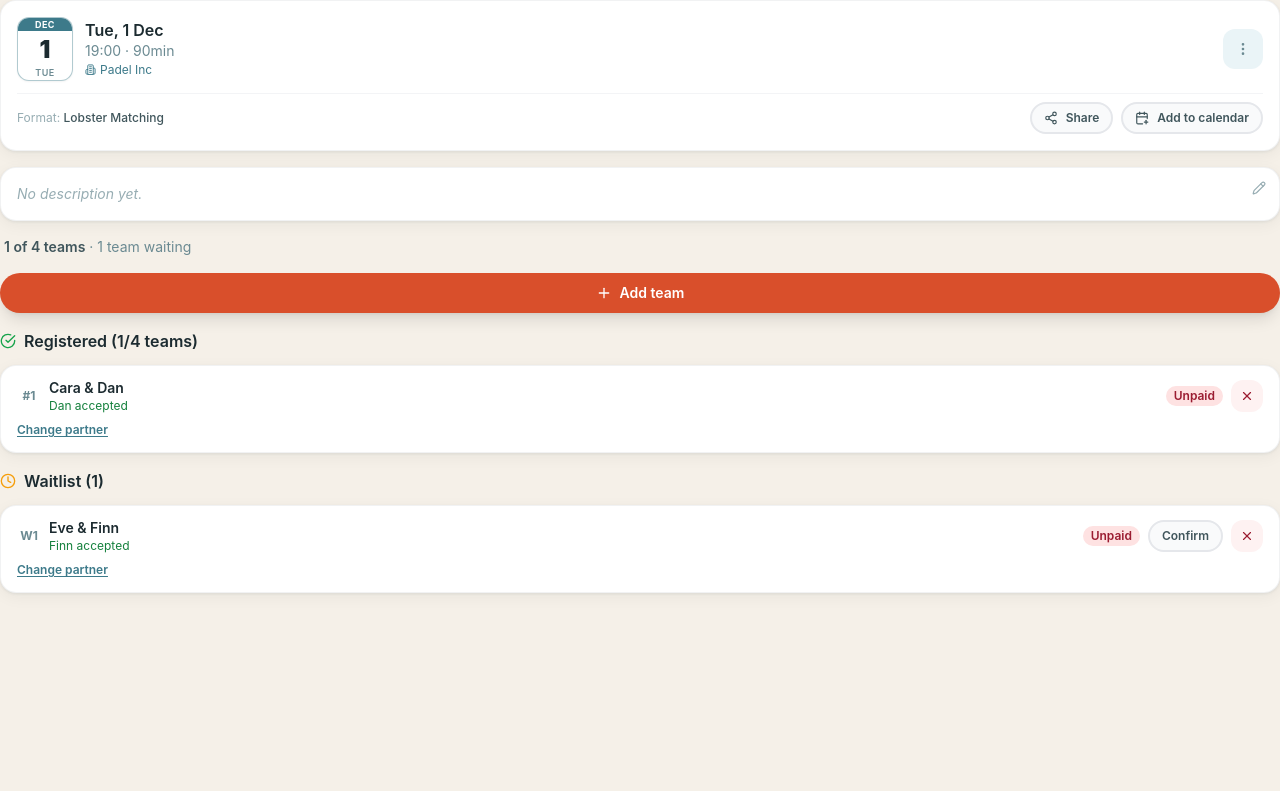
Test case: admin team actions › labels the new-partner link from the admin point of view
Click the button "Add team": (640, 293) [0,273,1279,313]
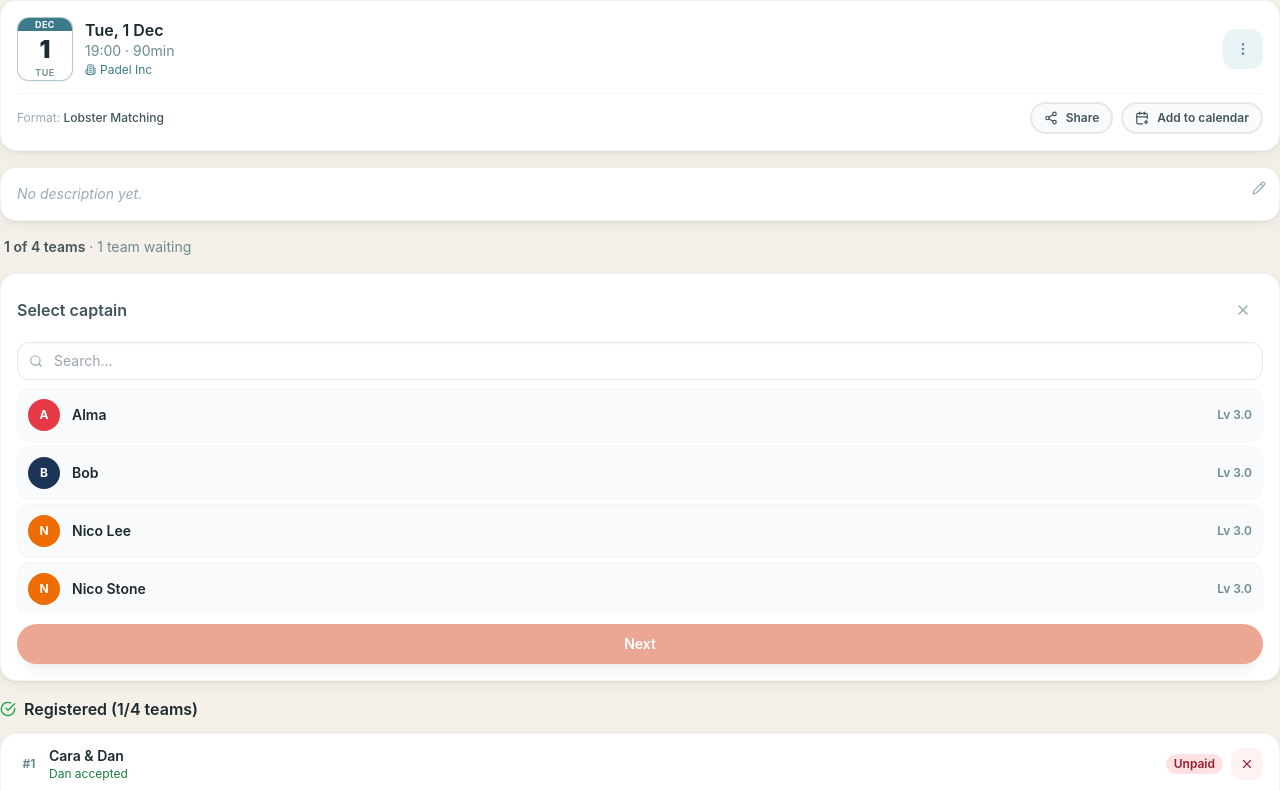
Click the button "A Alma Lv 3.0": (44, 415) [18,389,1262,441]
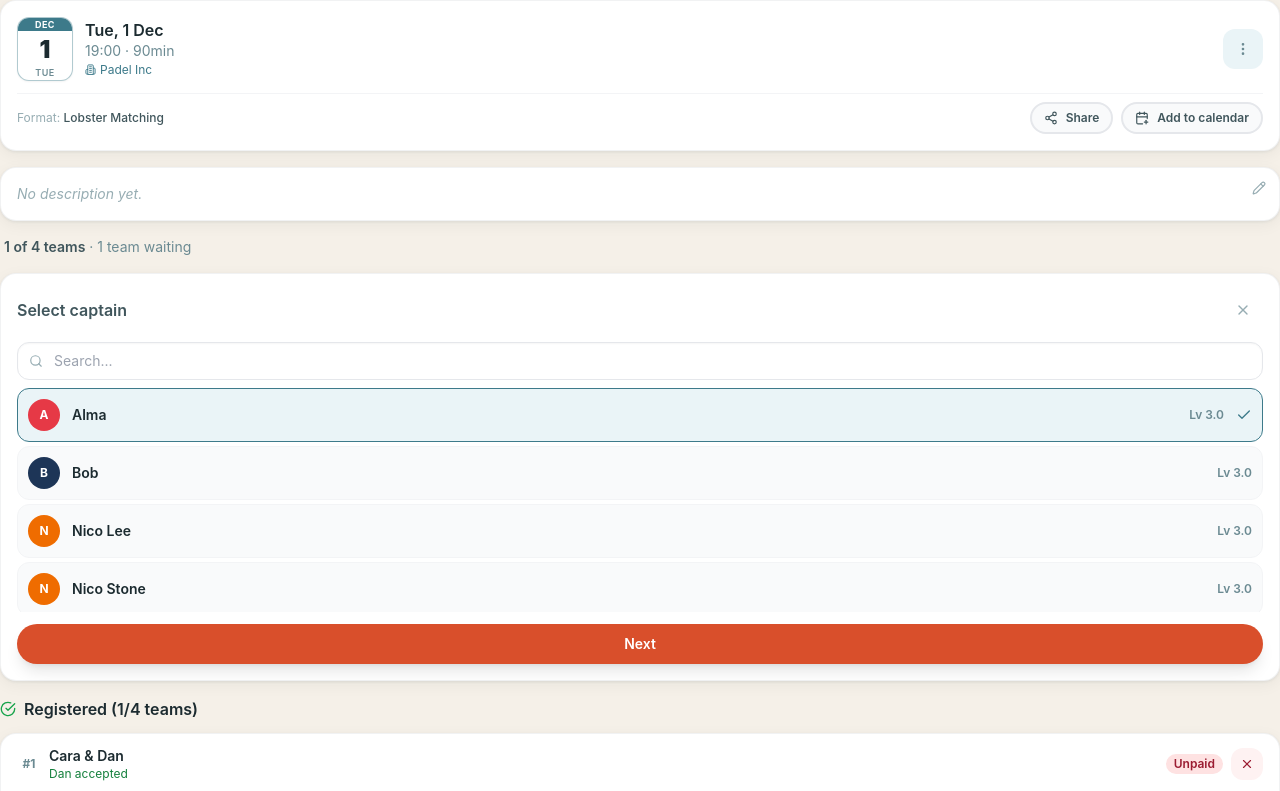
Click the button "Next": (640, 644) [17,624,1263,664]
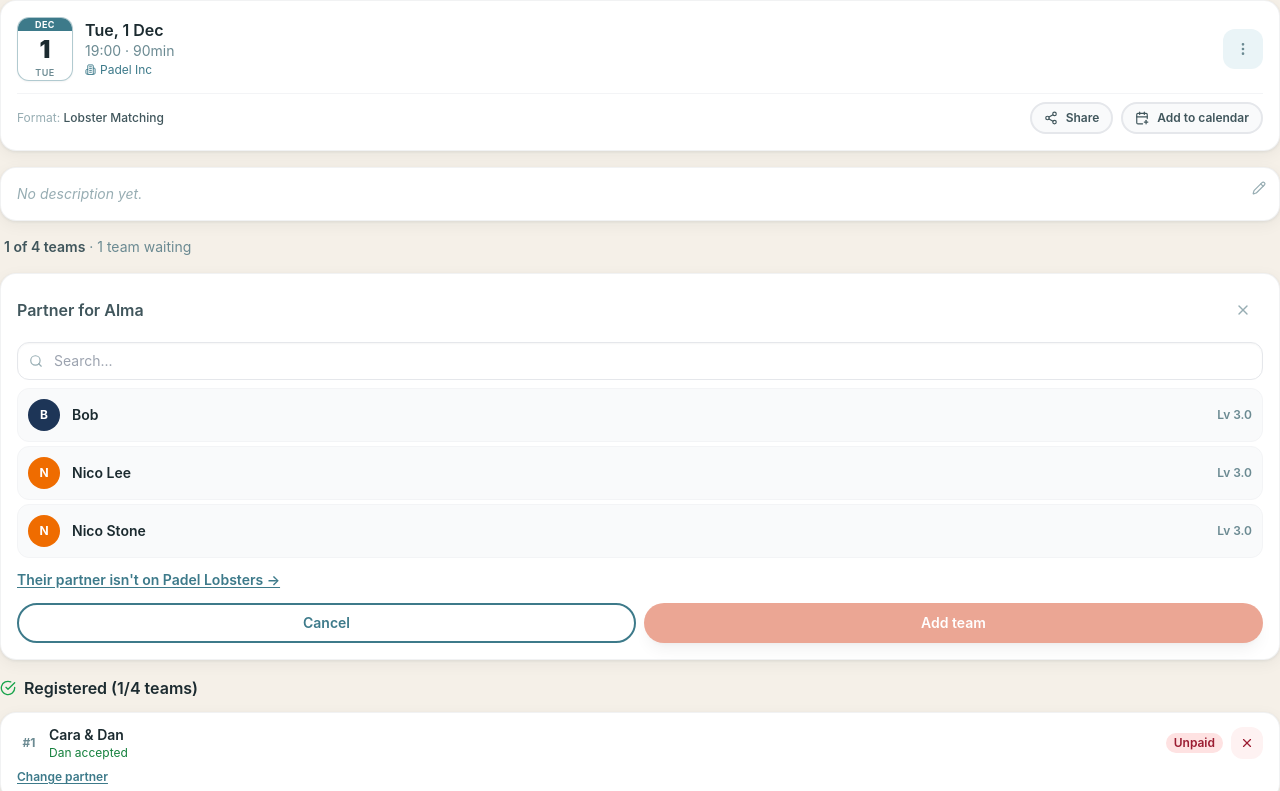
Result: the button "Their partner isn't on Padel Lobsters →" is shown at [17,570,280,590]
